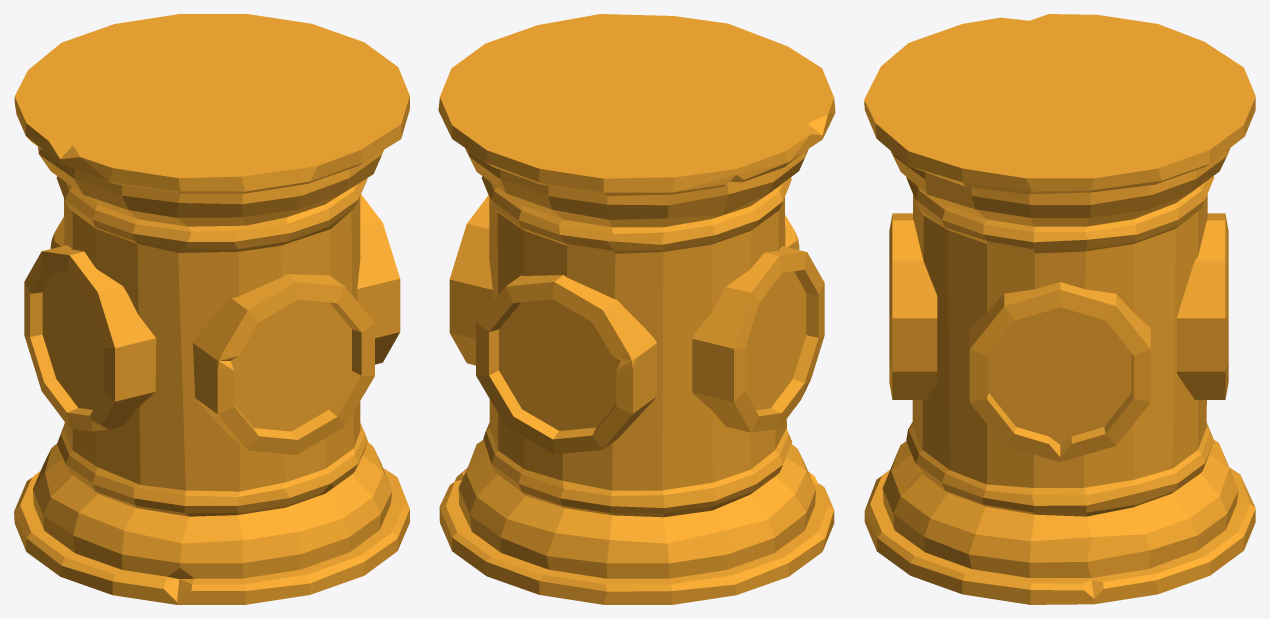
File: SM_Pedestal_Cylindrical_E_Fantasy.fbx
3 views of the same model, side by side, from view 1: azimuth 30°, elevation 25°; view 2: azimuth 150°, elevation 25°; view 3: azimuth 270°, elevation 25° (orthographic).
Visible parts, largest first — view 1: SM_Pedestal_Cylindrical_Fantasy_E; view 2: SM_Pedestal_Cylindrical_Fantasy_E; view 3: SM_Pedestal_Cylindrical_Fantasy_E.
Boxes of the visible parts, left/top/right/bottom form: SM_Pedestal_Cylindrical_Fantasy_E: left=14, top=14, right=409, bottom=604; SM_Pedestal_Cylindrical_Fantasy_E: left=438, top=14, right=835, bottom=604; SM_Pedestal_Cylindrical_Fantasy_E: left=864, top=14, right=1255, bottom=604.
Bounding box in the file's own units: 1 × 1.2 × 1.
